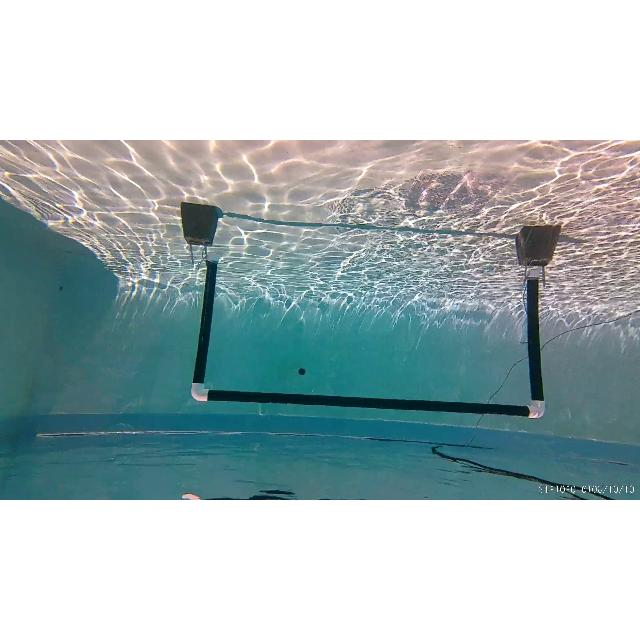prequal gate: (188, 253, 550, 419)
prequal gate leg l: (517, 260, 549, 418)
prequal gate leg r: (184, 250, 226, 410)
